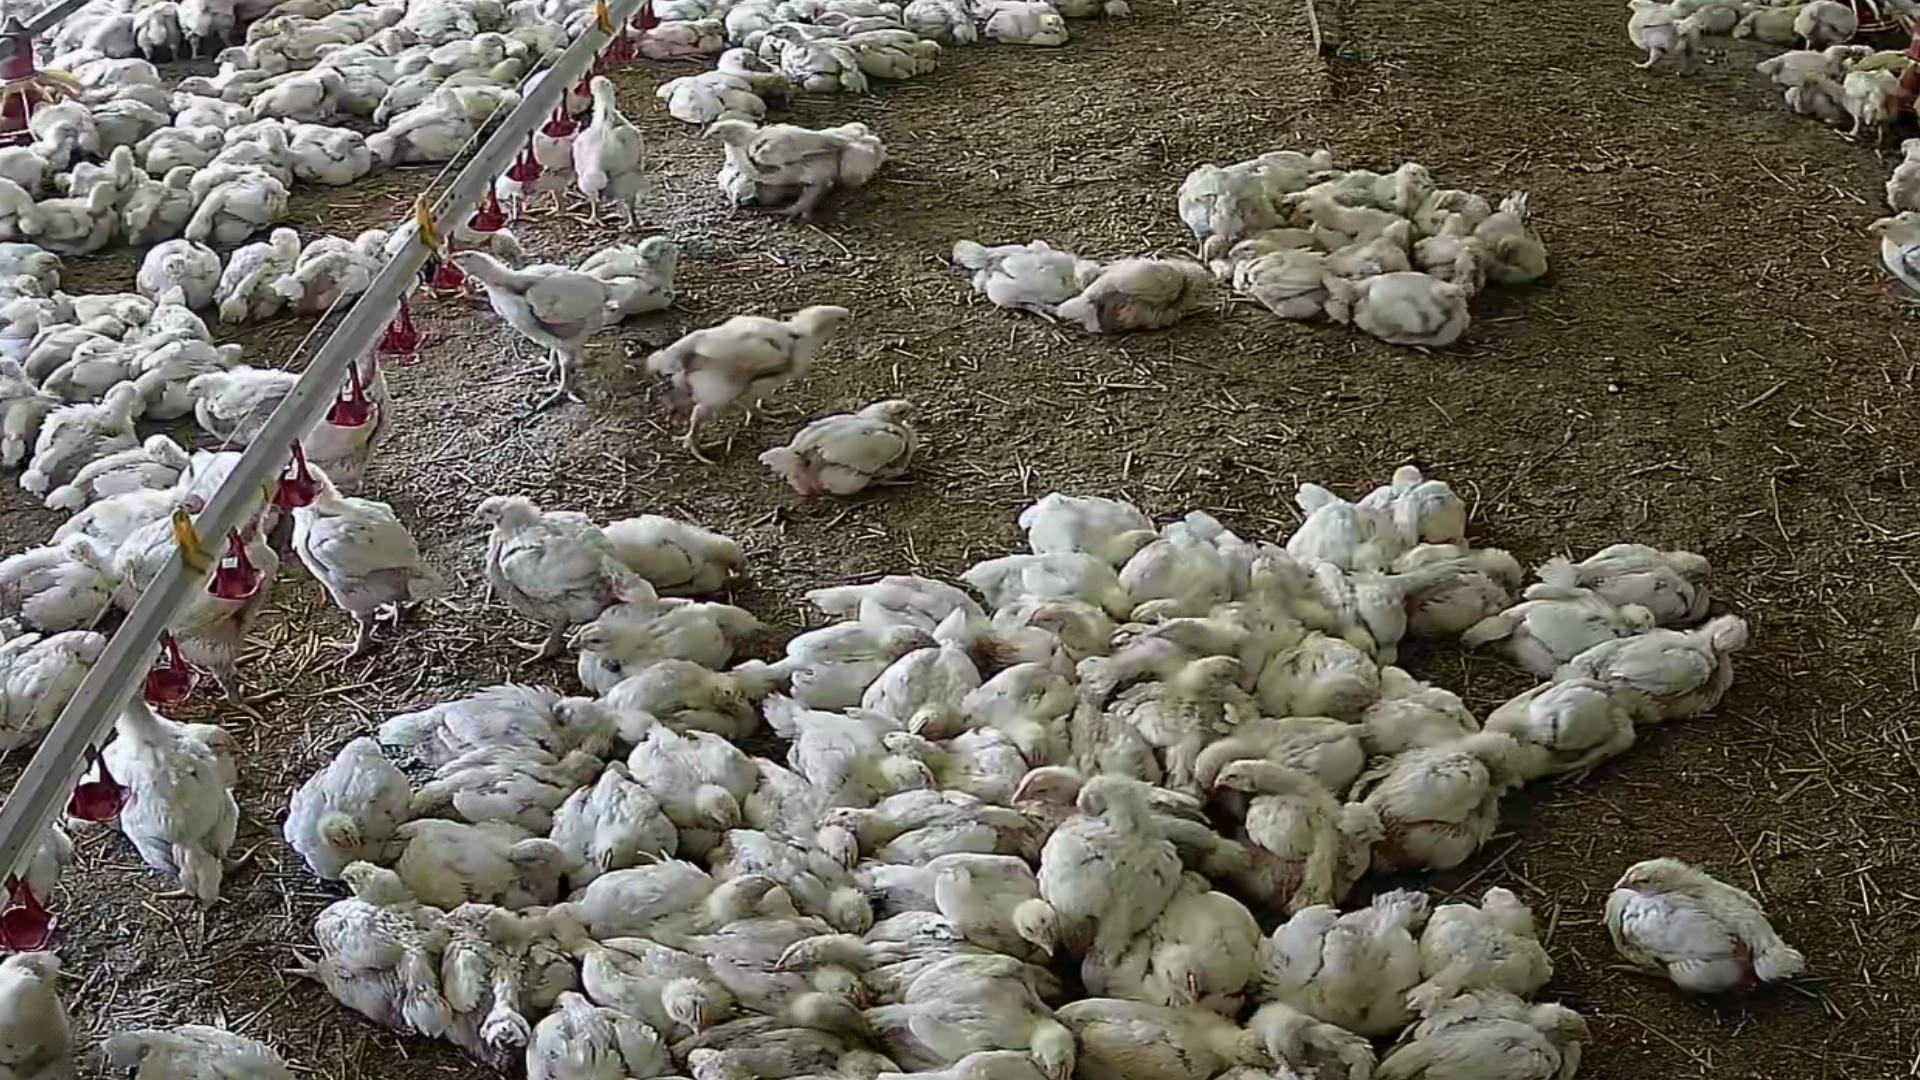poussin: (87, 665, 252, 891), (641, 295, 856, 468), (1594, 851, 1796, 1025), (276, 464, 431, 662), (473, 495, 625, 674), (455, 249, 625, 407), (1011, 771, 1170, 940), (1096, 849, 1261, 1009), (1215, 753, 1375, 915), (553, 567, 761, 691), (1356, 732, 1531, 877), (766, 367, 923, 527), (1575, 611, 1767, 731), (398, 665, 607, 774), (264, 728, 407, 886), (1447, 684, 1648, 795), (694, 117, 889, 231), (389, 729, 604, 829), (914, 951, 1080, 1076), (1536, 516, 1727, 624), (695, 906, 861, 1030), (313, 866, 442, 1021), (1271, 898, 1419, 1027), (550, 74, 679, 222), (393, 808, 564, 919), (1389, 988, 1592, 1080), (1072, 980, 1251, 1080), (728, 814, 877, 934), (1018, 765, 1218, 853), (1360, 530, 1530, 629), (90, 997, 290, 1080), (589, 501, 753, 600), (1474, 591, 1662, 676), (1117, 508, 1263, 617), (439, 899, 554, 1038), (1332, 265, 1486, 365), (1416, 881, 1551, 996), (1259, 463, 1393, 574), (611, 654, 767, 748), (1127, 633, 1229, 777), (579, 861, 757, 943), (819, 782, 1002, 861), (923, 851, 1065, 952), (582, 931, 721, 1034), (740, 756, 865, 869), (574, 216, 692, 332), (560, 756, 673, 878), (682, 1014, 890, 1080), (972, 543, 1147, 621), (626, 731, 758, 833), (848, 634, 981, 735), (531, 986, 673, 1080), (956, 229, 1098, 320), (11, 389, 152, 480), (0, 625, 100, 753), (103, 334, 247, 422), (1080, 251, 1213, 345), (837, 568, 1005, 644), (880, 717, 1026, 802), (1021, 484, 1156, 574), (778, 605, 926, 687), (1253, 624, 1377, 720), (1361, 650, 1482, 748), (1150, 595, 1296, 674), (0, 939, 82, 1080), (51, 436, 187, 517), (1241, 996, 1369, 1080), (1358, 448, 1466, 545), (290, 219, 394, 318), (781, 913, 967, 968), (53, 480, 199, 550), (973, 599, 1116, 669), (0, 542, 113, 629), (63, 328, 194, 402), (185, 369, 297, 454), (1224, 245, 1338, 324), (1617, 0, 1701, 96), (651, 65, 761, 138), (190, 170, 305, 240), (15, 309, 135, 375), (222, 229, 307, 320), (372, 99, 476, 173), (127, 233, 229, 305), (764, 25, 858, 99), (1324, 154, 1436, 215), (1171, 161, 1255, 237), (1327, 215, 1422, 282), (1457, 210, 1548, 280), (286, 117, 368, 193), (18, 194, 127, 249), (121, 171, 208, 237), (1863, 202, 1920, 301), (0, 124, 83, 191), (632, 13, 733, 67), (0, 353, 46, 472), (1254, 132, 1342, 190), (1833, 57, 1892, 142), (1309, 194, 1400, 249), (844, 25, 932, 82), (32, 94, 102, 164), (1411, 225, 1491, 284), (440, 73, 524, 128), (138, 120, 225, 173), (174, 0, 240, 69), (84, 91, 162, 148), (219, 121, 297, 178), (1782, 0, 1865, 51), (57, 280, 142, 328), (992, 0, 1075, 50), (371, 69, 442, 127), (894, 0, 982, 44), (169, 88, 252, 135), (1414, 181, 1487, 232), (1731, 0, 1803, 53), (0, 273, 61, 334), (258, 74, 334, 121), (129, 0, 185, 63), (84, 53, 167, 95), (1756, 41, 1850, 78), (1224, 222, 1311, 261), (1785, 73, 1849, 125), (218, 33, 287, 80), (434, 32, 504, 79), (182, 70, 276, 103), (284, 15, 348, 61), (0, 240, 66, 285), (1849, 37, 1916, 78), (1888, 128, 1920, 214), (327, 65, 384, 112), (820, 5, 901, 37), (353, 46, 433, 78), (1683, 0, 1741, 40), (731, 0, 778, 42)
